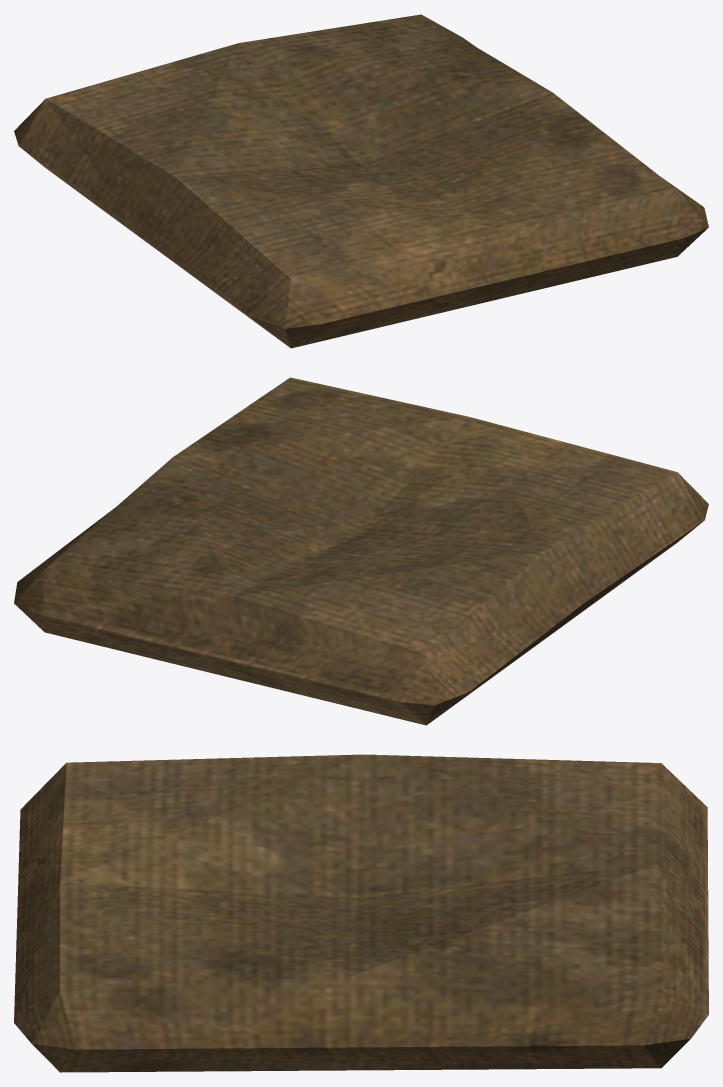
File: frn_all_throwpillow_med_s01_l0.fbx
The picture shows the model from 3 angles, top to bottom: view 1: azimuth 30°, elevation 25°; view 2: azimuth 150°, elevation 25°; view 3: azimuth 270°, elevation 25°; orthographic projection. The views are drawn at different scales.
Visible parts, largest first — view 1: mesh_node; view 2: mesh_node; view 3: mesh_node.
Part boxes in pixels (x1,y1,x2,y2): mesh_node: (14,14,708,348); mesh_node: (14,377,708,725); mesh_node: (14,754,708,1072).
Size of the model in its own units: 1.25 by 0.2107 by 1.38.
